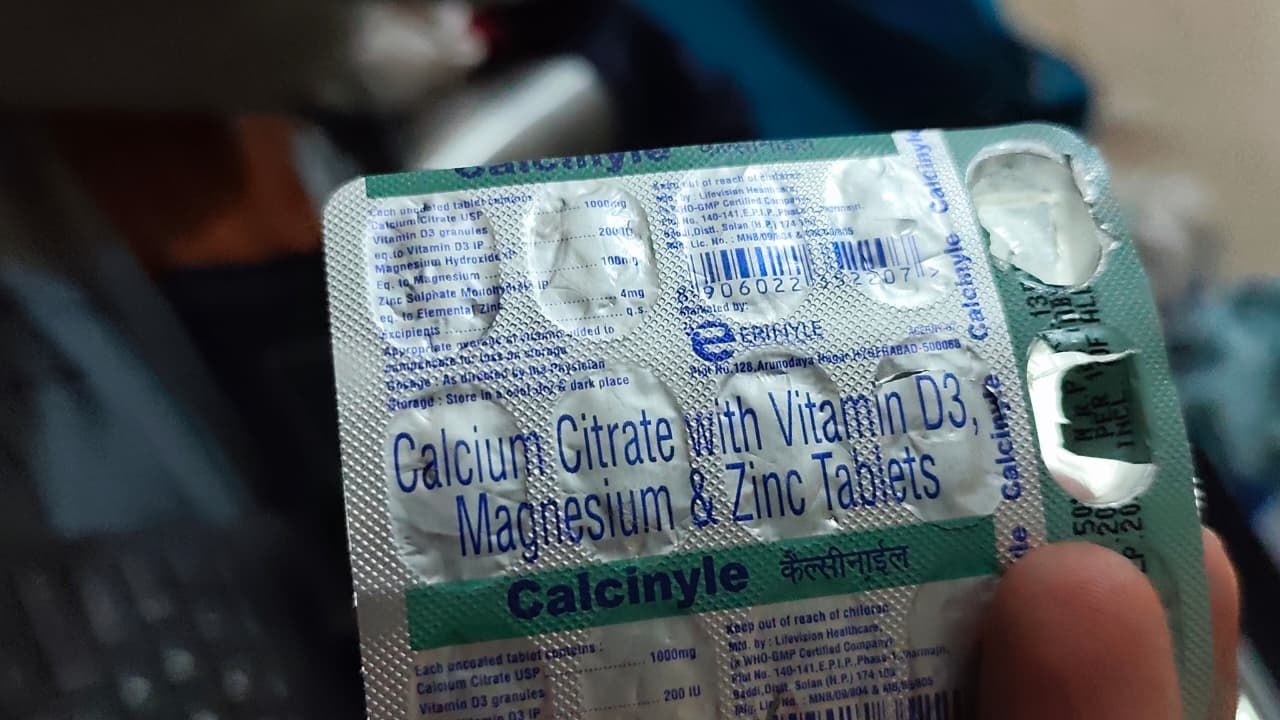MedicineStrip: (320, 130, 1180, 720)
